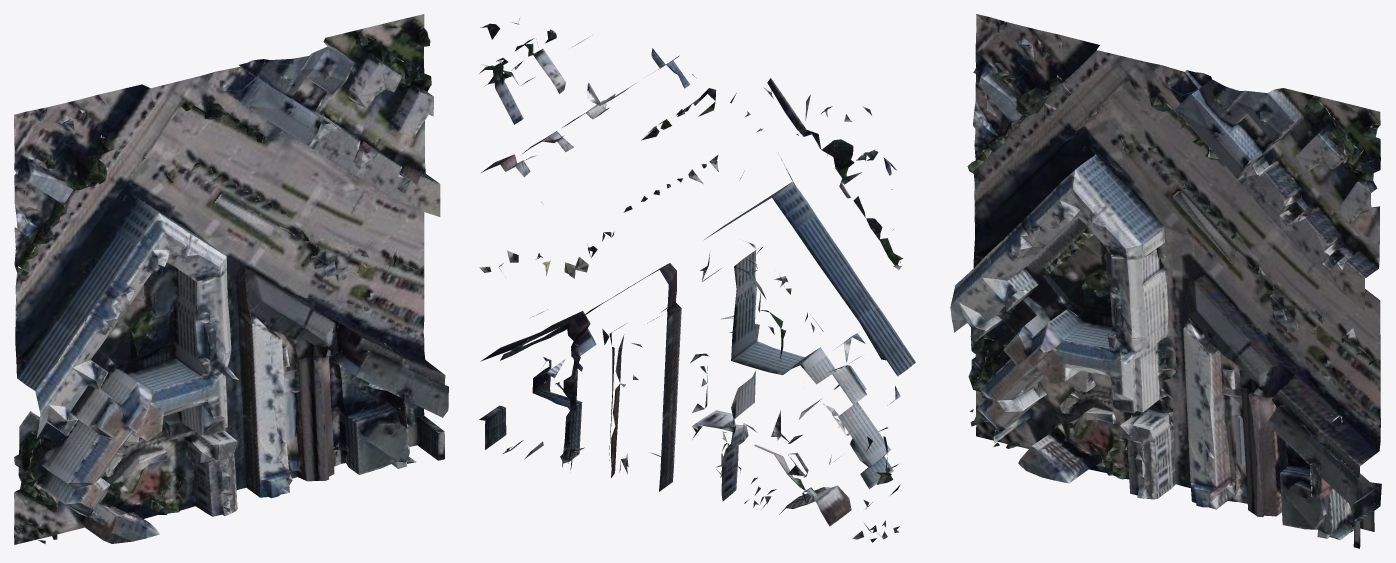
Rendered from Tile_+036_+030_L16_000.glb.
The picture shows the model from 3 angles, left to right: view 1: azimuth 30°, elevation 25°; view 2: azimuth 150°, elevation 25°; view 3: azimuth 330°, elevation 25°; orthographic projection. The views are drawn at different scales.
Size of the model in its own units: 250 by 250 by 43.37.
Materials: 1 (1 with a texture image).
